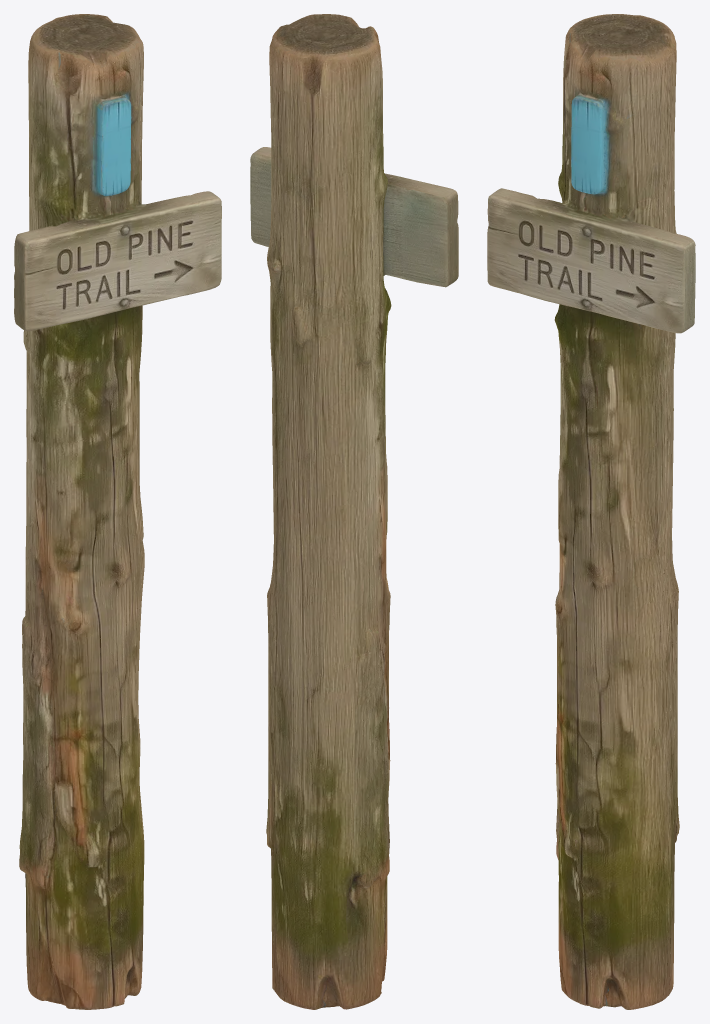
Rendered from prop_signpost.glb.
3 views of the same model, side by side, from view 1: azimuth 30°, elevation 25°; view 2: azimuth 150°, elevation 25°; view 3: azimuth 330°, elevation 25° (orthographic).
Parts seen in each view (by area): view 1: Mesh_0; view 2: Mesh_0; view 3: Mesh_0.
Boxes of the visible parts, box(x1,y1,x2,y2) form: Mesh_0: box(14, 14, 221, 1009); Mesh_0: box(250, 14, 458, 1009); Mesh_0: box(487, 14, 695, 1009).
Size of the model in its own units: 0.4168 by 1.91 by 0.2472.
1 material, 1 textured.
